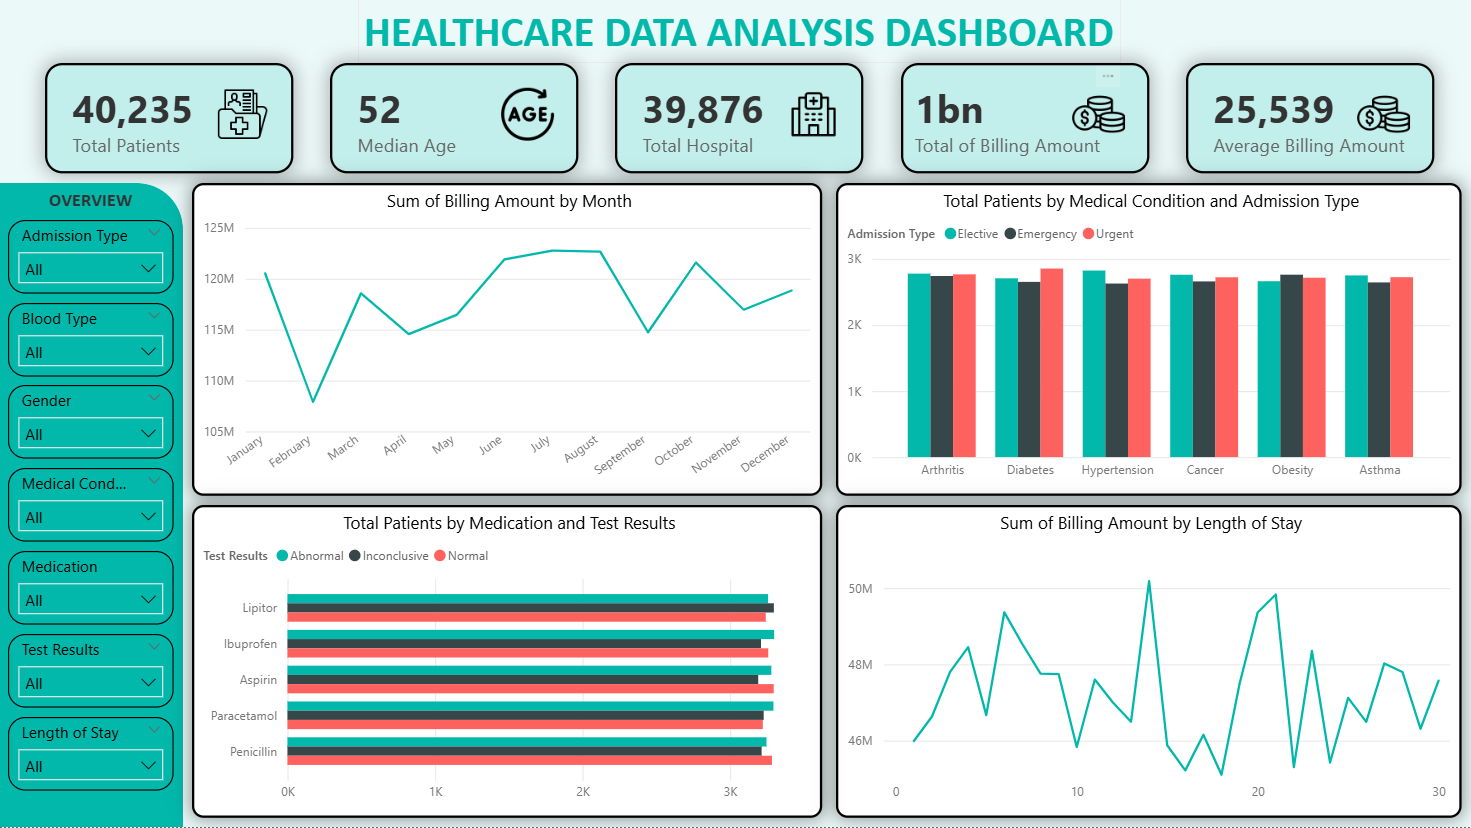

What the dashboard file says about the page in this screenshot:
{"tool":"powerbi","page":{"name":"Healtcare Data Analysis Dashboard","canvas":[1280,720],"ordinal":0},"visuals":[{"type":"textbox","box":[312,0,664,56],"z":0},{"type":"cardVisual","fields":{"Data":["healthcare_dataset_clean.Total Patients"]},"box":[40,56,216,96],"z":1000},{"type":"cardVisual","fields":{"Data":["healthcare_dataset_clean.Total Hospital"]},"box":[536,56,216,96],"z":2000},{"type":"cardVisual","fields":{"Data":["Sum(healthcare_dataset_clean.Billing Amount)"]},"box":[784,56,216,96],"z":3000},{"type":"cardVisual","fields":{"Data":["healthcare_dataset_clean.Median Age"]},"box":[288,56,216,96],"z":4000},{"type":"cardVisual","fields":{"Data":["healthcare_dataset_clean.Average Billing Amount"]},"box":[1032,56,216,96],"z":5000},{"type":"image","box":[664,72,88,56],"z":6000},{"type":"image","box":[168,72,88,56],"z":7000},{"type":"image","box":[1160,72,88,56],"z":8000},{"type":"image","box":[912,72,88,56],"z":9000},{"type":"image","box":[416,72,88,56],"z":10000},{"type":"shape","box":[0,160,160,560],"z":11000},{"type":"textbox","box":[8,160,144,32],"z":12000},{"type":"slicer","fields":{"Values":["healthcare_dataset_clean.Admission Type"]},"box":[8,192,144,64],"z":13000},{"type":"slicer","fields":{"Values":["healthcare_dataset_clean.Blood Type"]},"box":[8,264,144,64],"z":14000},{"type":"slicer","fields":{"Values":["healthcare_dataset_clean.Gender"]},"box":[8,336,144,64],"z":15000},{"type":"slicer","fields":{"Values":["healthcare_dataset_clean.Medical Condition"]},"box":[8,408,144,64],"z":16000},{"type":"slicer","fields":{"Values":["healthcare_dataset_clean.Medication"]},"box":[8,480,144,64],"z":17000},{"type":"slicer","fields":{"Values":["healthcare_dataset_clean.Test Results"]},"box":[8,552,144,64],"z":18000},{"type":"slicer","fields":{"Values":["healthcare_dataset_clean.Length of Stay"]},"box":[8,624,144,64],"z":19000},{"type":"lineChart","fields":{"Category":["healthcare_dataset_clean.Date of Admission.Variation.Date Hierarchy.Month"],"Y":["Sum(healthcare_dataset_clean.Billing Amount)"]},"box":[168,160,548,272],"z":20000},{"type":"clusteredColumnChart","fields":{"Category":["healthcare_dataset_clean.Medical Condition"],"Series":["healthcare_dataset_clean.Admission Type"],"Y":["healthcare_dataset_clean.Total Patients"]},"box":[728,160,544,272],"z":21000},{"type":"clusteredBarChart","fields":{"Y":["healthcare_dataset_clean.Total Patients"],"Series":["healthcare_dataset_clean.Test Results"],"Category":["healthcare_dataset_clean.Medication"]},"box":[168,440,548,272],"z":22000},{"type":"lineChart","fields":{"Category":["healthcare_dataset_clean.Length of Stay"],"Y":["Sum(healthcare_dataset_clean.Billing Amount)"]},"box":[728,440,544,272],"z":23000}]}

Visuals, with their boxes in screenshot pixels (x1, y1, x2, y2), scaled from the page's 1280x720 canvas onto the 1471x828 screenshot:
textbox: bbox(359, 0, 1122, 64)
cardVisual - healthcare_dataset_clean.Total Patients: bbox(46, 64, 294, 175)
cardVisual - healthcare_dataset_clean.Total Hospital: bbox(616, 64, 864, 175)
cardVisual - Sum(healthcare_dataset_clean.Billing Amount): bbox(901, 64, 1149, 175)
cardVisual - healthcare_dataset_clean.Median Age: bbox(331, 64, 579, 175)
cardVisual - healthcare_dataset_clean.Average Billing Amount: bbox(1186, 64, 1434, 175)
image: bbox(763, 83, 864, 147)
image: bbox(193, 83, 294, 147)
image: bbox(1333, 83, 1434, 147)
image: bbox(1048, 83, 1149, 147)
image: bbox(478, 83, 579, 147)
shape: bbox(0, 184, 184, 827)
textbox: bbox(9, 184, 175, 221)
slicer - healthcare_dataset_clean.Admission Type: bbox(9, 221, 175, 294)
slicer - healthcare_dataset_clean.Blood Type: bbox(9, 304, 175, 377)
slicer - healthcare_dataset_clean.Gender: bbox(9, 386, 175, 460)
slicer - healthcare_dataset_clean.Medical Condition: bbox(9, 469, 175, 543)
slicer - healthcare_dataset_clean.Medication: bbox(9, 552, 175, 626)
slicer - healthcare_dataset_clean.Test Results: bbox(9, 635, 175, 708)
slicer - healthcare_dataset_clean.Length of Stay: bbox(9, 718, 175, 791)
lineChart - healthcare_dataset_clean.Date of Admission.Variation.Date Hierarchy.Month x Sum(healthcare_dataset_clean.Billing Amount): bbox(193, 184, 823, 497)
clusteredColumnChart - healthcare_dataset_clean.Medical Condition x healthcare_dataset_clean.Admission Type: bbox(837, 184, 1462, 497)
clusteredBarChart - healthcare_dataset_clean.Total Patients x healthcare_dataset_clean.Test Results: bbox(193, 506, 823, 819)
lineChart - healthcare_dataset_clean.Length of Stay x Sum(healthcare_dataset_clean.Billing Amount): bbox(837, 506, 1462, 819)
